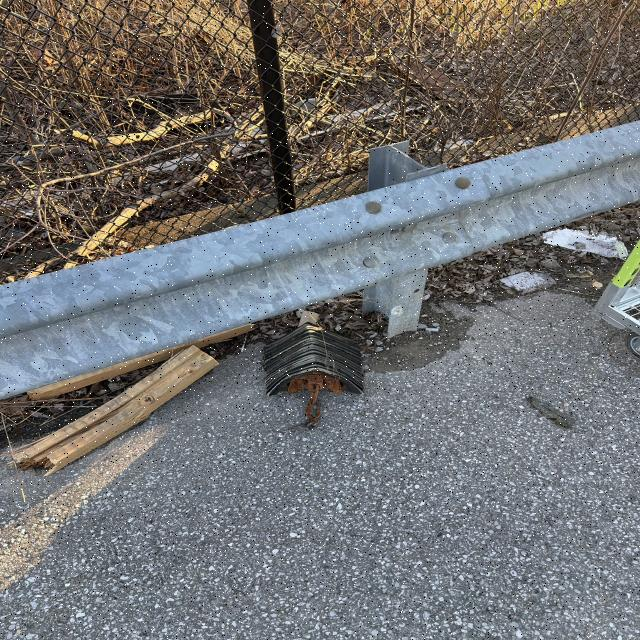Guard rail: (32, 130, 634, 377)
